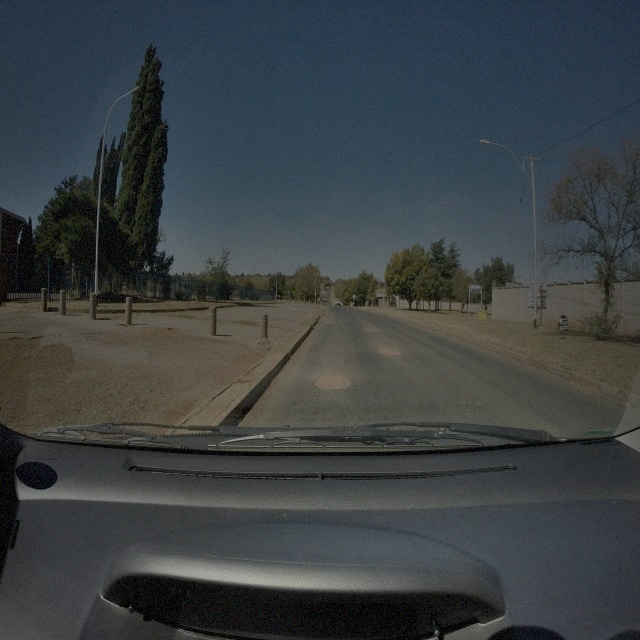pothole: (312, 375, 352, 391), (375, 345, 403, 357), (364, 326, 381, 334)
